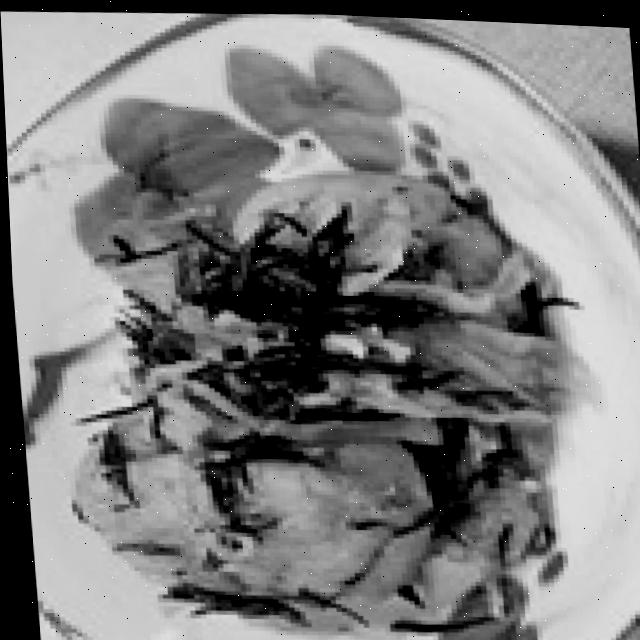熟制海鲜: (5, 129, 565, 607)
